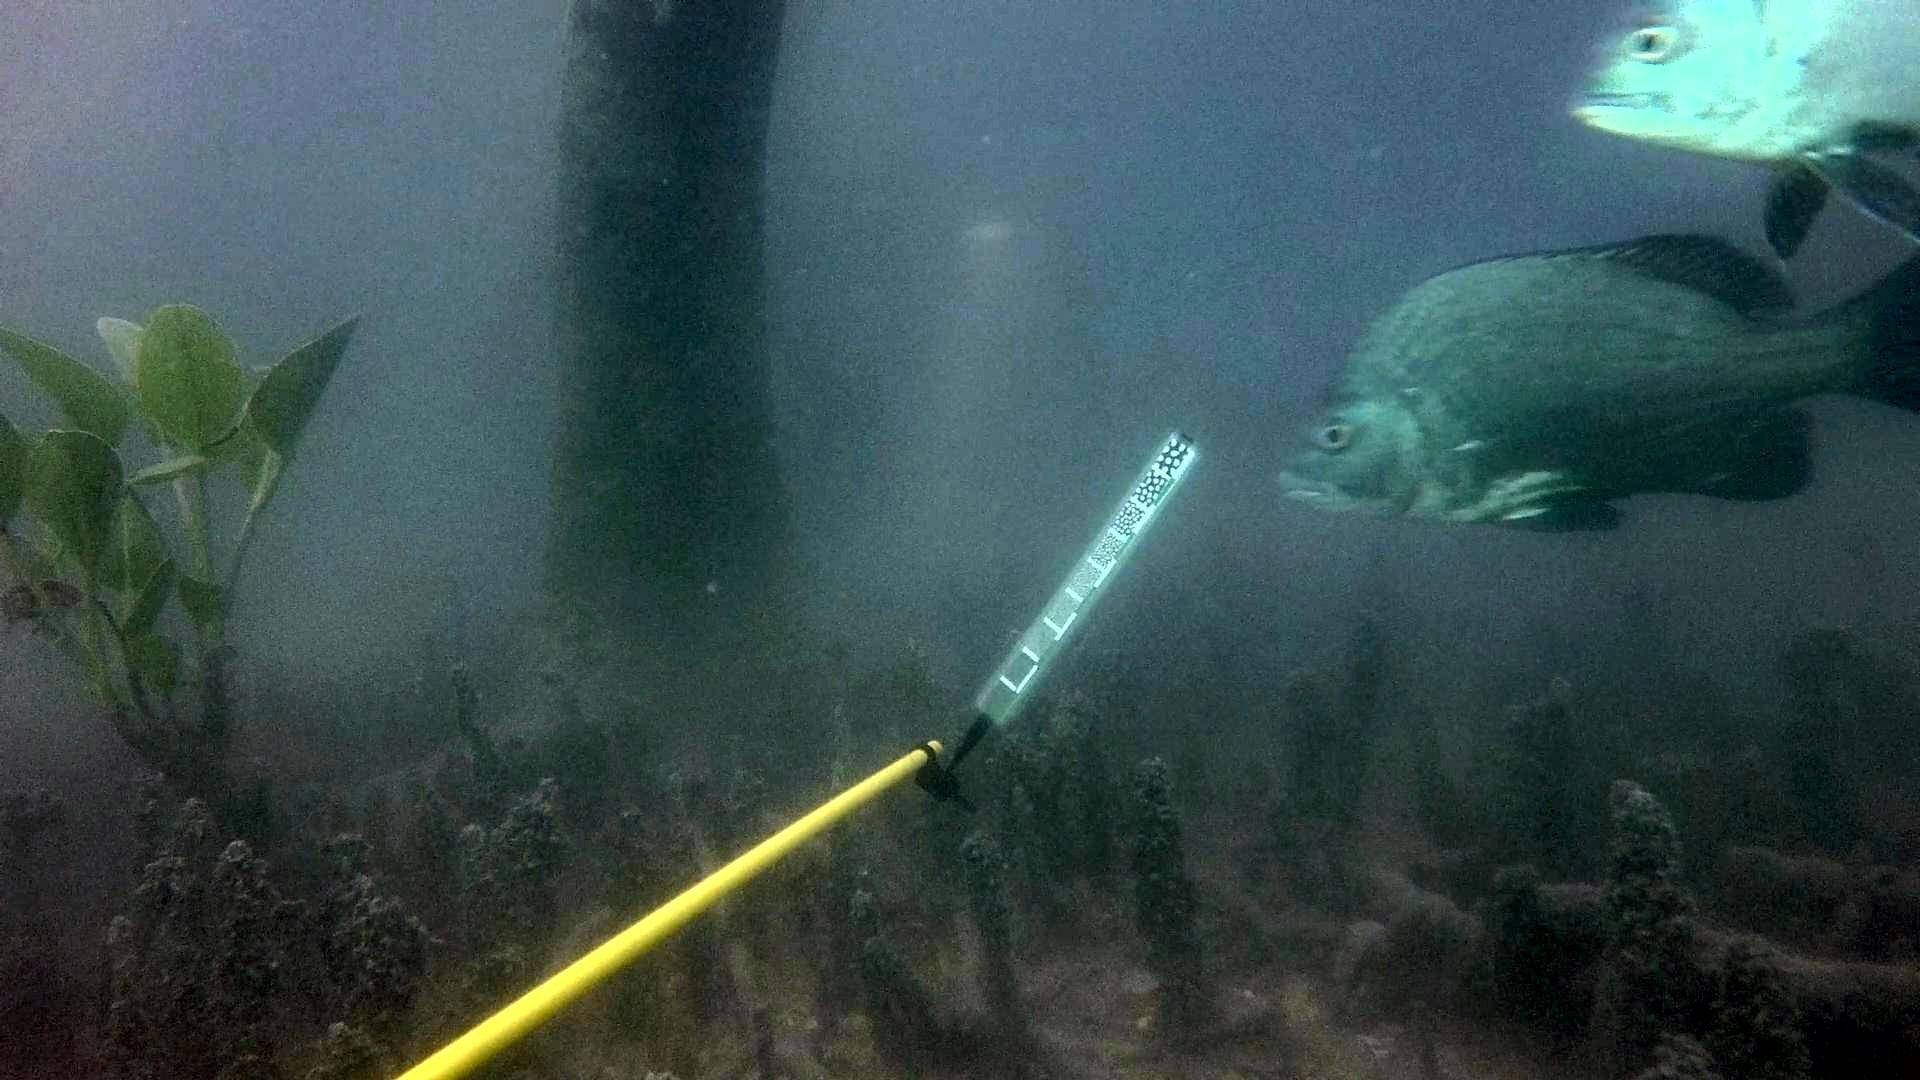acanthopagrus palmaris: (1266, 223, 1920, 545), (1548, 0, 1920, 270)
